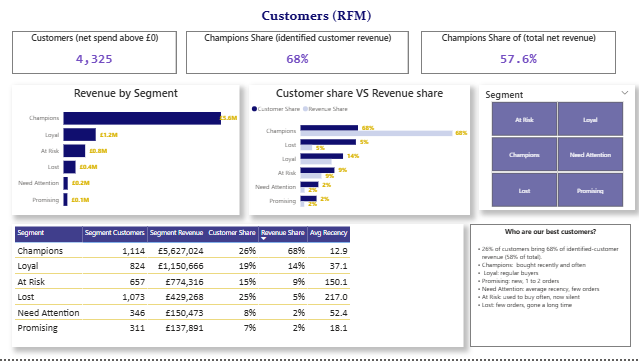

The page's visual inventory and layout, read from the dashboard file:
{"tool":"powerbi","page":{"name":"Customers(RFM)","canvas":[1280,720],"ordinal":3},"visuals":[{"type":"clusteredBarChart","title":"Customer share VS Revenue share ","fields":{"Category":["rfm_segments.Segment"],"Y":["rfm_segments.Customer Share","rfm_segments.Revenue Share"]},"box":[484.4,171.2,442,260.5],"z":0},{"type":"card","title":"Customers (net spend above £0) ","fields":{"Values":["rfm_segments.Segment Customers"]},"box":[11.7,64.4,329.3,84.9],"z":1000},{"type":"clusteredBarChart","title":" Revenue by Segment","fields":{"Y":["rfm_segments.Segment Revenue"],"Category":["rfm_segments.Segment"]},"box":[11.7,171.2,455.1,260.5],"z":2000},{"type":"tableEx","fields":{"Values":["rfm_segments.Segment","rfm_segments.Segment Customers","rfm_segments.Segment Revenue","rfm_segments.Customer Share","rfm_segments.Revenue Share","rfm_segments.Avg Recency"]},"box":[11.7,450.7,914.6,245.9],"z":3000},{"type":"slicer","fields":{"Values":["rfm_segments.Segment"]},"box":[942.4,171.2,329.3,250.2],"z":4000},{"type":"textbox","box":[218,11.7,834.1,83.4],"z":5000},{"type":"card","title":"Champions  Share (identified customer revenue)","fields":{"Values":["rfm_segments.Champions Revenue Share"]},"box":[358.5,64.4,444.9,84.9],"z":6000},{"type":"textbox","box":[942.4,450.7,322,245.9],"z":7000},{"type":"card","title":"Champions Share of total  revenue","fields":{"Values":["rfm_segments.Champions Share of Total"]},"box":[832.7,64.4,390.7,84.9],"z":8000}]}

Visuals, with their boxes in screenshot pixels (x1, y1, x2, y2), scaled from the page's 1280x720 canvas onto the 639x363 screenshot:
"Customer share VS Revenue share " clusteredBarChart: Rect(242, 86, 462, 218)
"Customers (net spend above £0) " card: Rect(6, 32, 170, 75)
" Revenue by Segment" clusteredBarChart: Rect(6, 86, 233, 218)
tableEx - rfm_segments.Segment x rfm_segments.Segment Customers: Rect(6, 227, 462, 351)
slicer - rfm_segments.Segment: Rect(470, 86, 635, 212)
textbox: Rect(109, 6, 525, 48)
"Champions  Share (identified customer revenue)" card: Rect(179, 32, 401, 75)
textbox: Rect(470, 227, 631, 351)
"Champions Share of total  revenue" card: Rect(416, 32, 611, 75)
